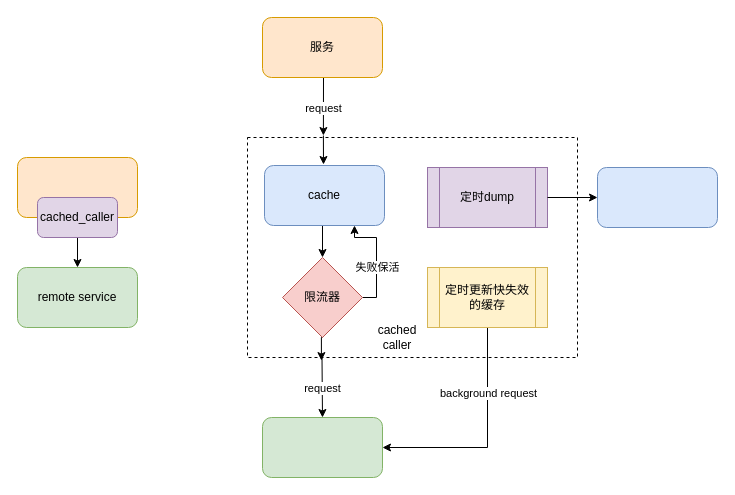
Some shapes in this 735 by 495 pixel diagram are drawn without their labels. Here are the shapes that lost their labels. From the top down, the box of each, then its label:
(16, 156, 138, 218): your service
(596, 166, 718, 228): 磁盘
(262, 416, 382, 478): 下游服务
